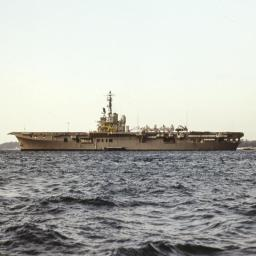Portanaves: (5, 89, 248, 156)
